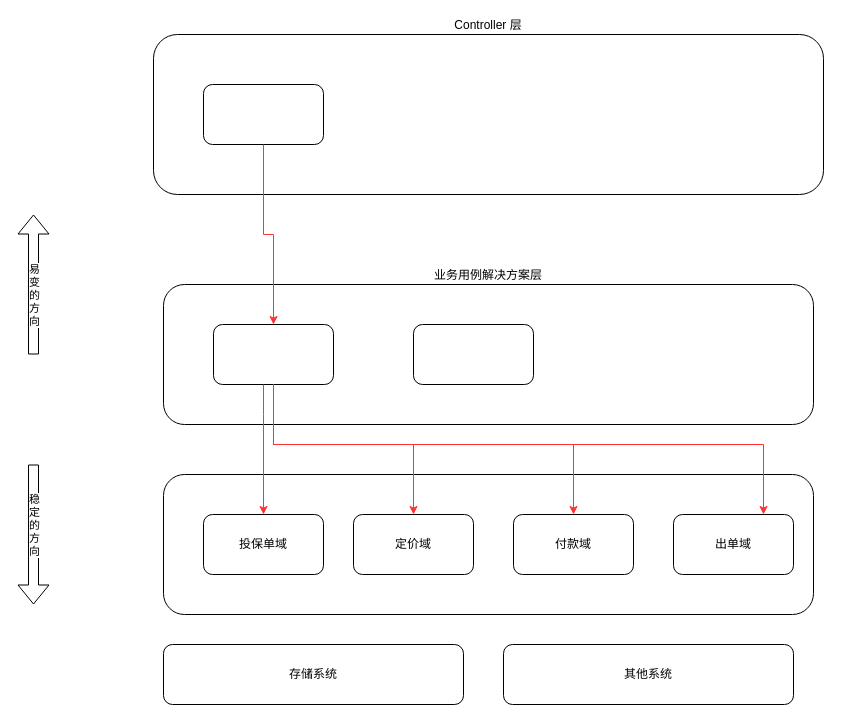
Image size: 841x722. Some labels were removed from this diagram. The box of each missing label's shape, as (x1, y1, x2, y2) in pixels:
售卖医疗险的用户故事流程: (412, 324, 534, 384)
售卖重疾险的用户故事流程: (212, 324, 334, 384)
投保 controller: (202, 84, 324, 144)
领域能力层: (162, 474, 814, 614)
